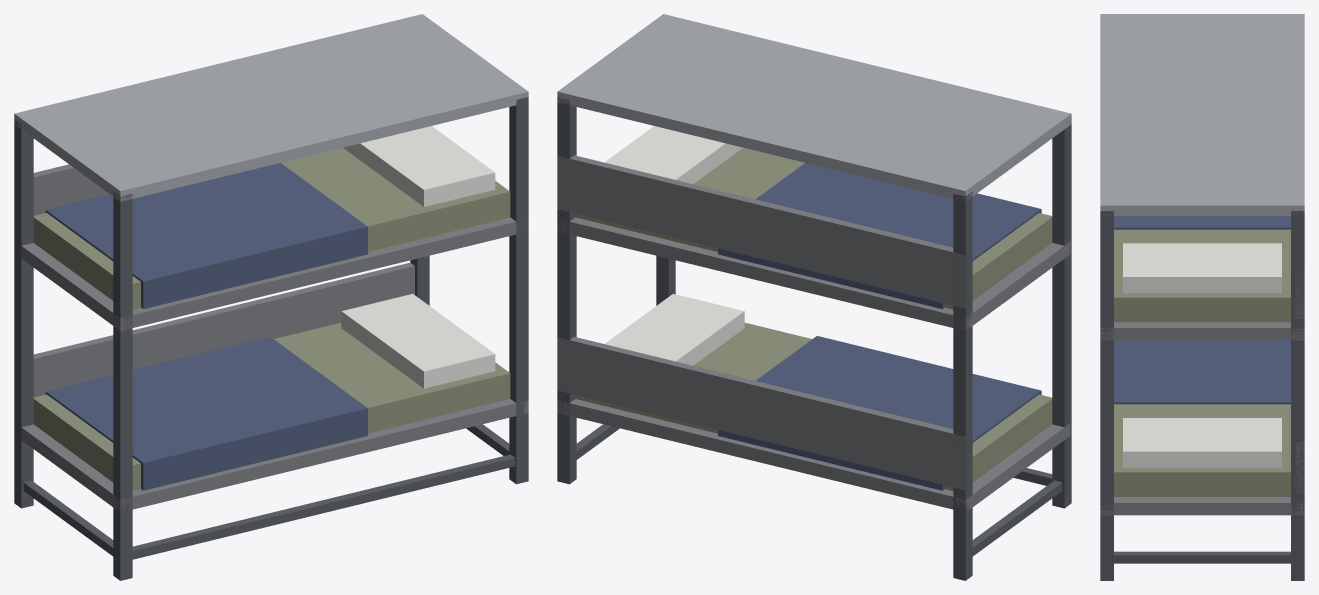
File: SM_Bunk_Bed.glb
3 views of the same model, side by side, from view 1: azimuth 30°, elevation 25°; view 2: azimuth 150°, elevation 25°; view 3: azimuth 270°, elevation 25° (orthographic). The views are drawn at different scales.
Parts seen in each view (by area): view 1: SM_Bunk_Bed; view 2: SM_Bunk_Bed; view 3: SM_Bunk_Bed.
Boxes of the visible parts, x1,y1,x2,y2 form: SM_Bunk_Bed: (14,14,528,580); SM_Bunk_Bed: (557,14,1071,580); SM_Bunk_Bed: (1100,14,1304,580).
Bounding box in the file's own units: 2 × 1.82 × 0.9.
